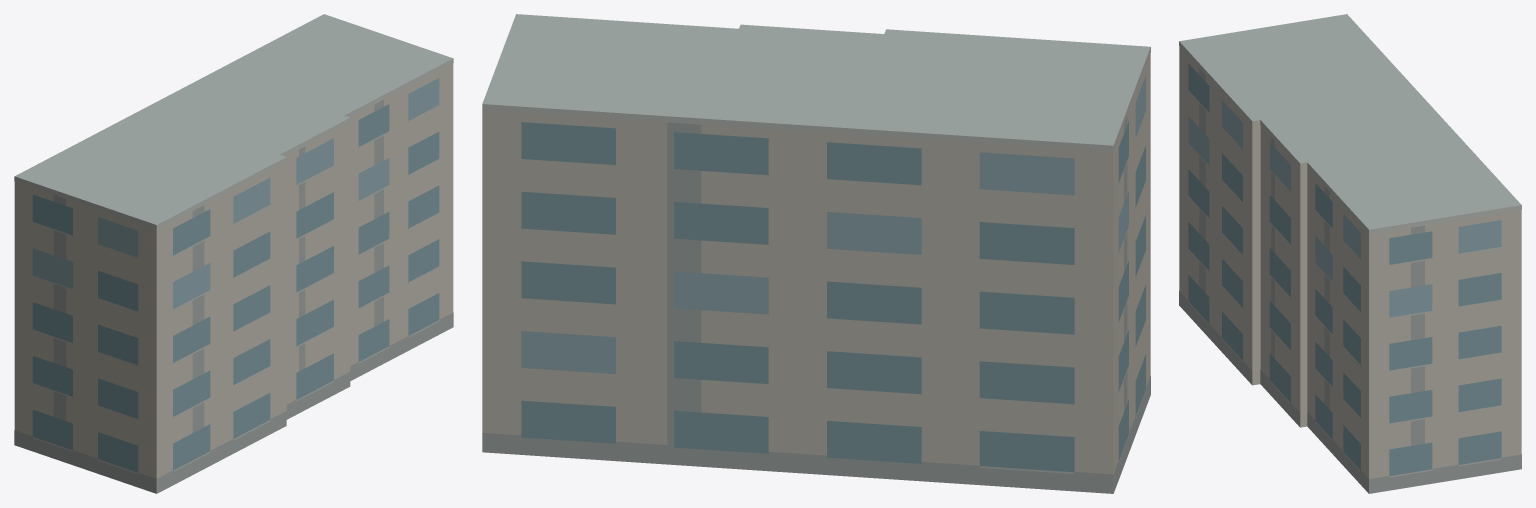
Rendered from survey-upis-32615002.glb.
3 renders of one model, left to right at view 1: azimuth 30°, elevation 25°; view 2: azimuth 150°, elevation 25°; view 3: azimuth 270°, elevation 25°, orthographic. The views are drawn at different scales.
Visible parts, largest first — view 1: survey-upis-32615002.tmp; view 2: survey-upis-32615002.tmp; view 3: survey-upis-32615002.tmp.
Boxes of the visible parts, left/top/right/bottom form: survey-upis-32615002.tmp: left=14, top=14, right=453, bottom=493; survey-upis-32615002.tmp: left=482, top=14, right=1150, bottom=493; survey-upis-32615002.tmp: left=1179, top=14, right=1521, bottom=493.
Bounding box in the file's own units: 23.57 × 13.45 × 15.82.
